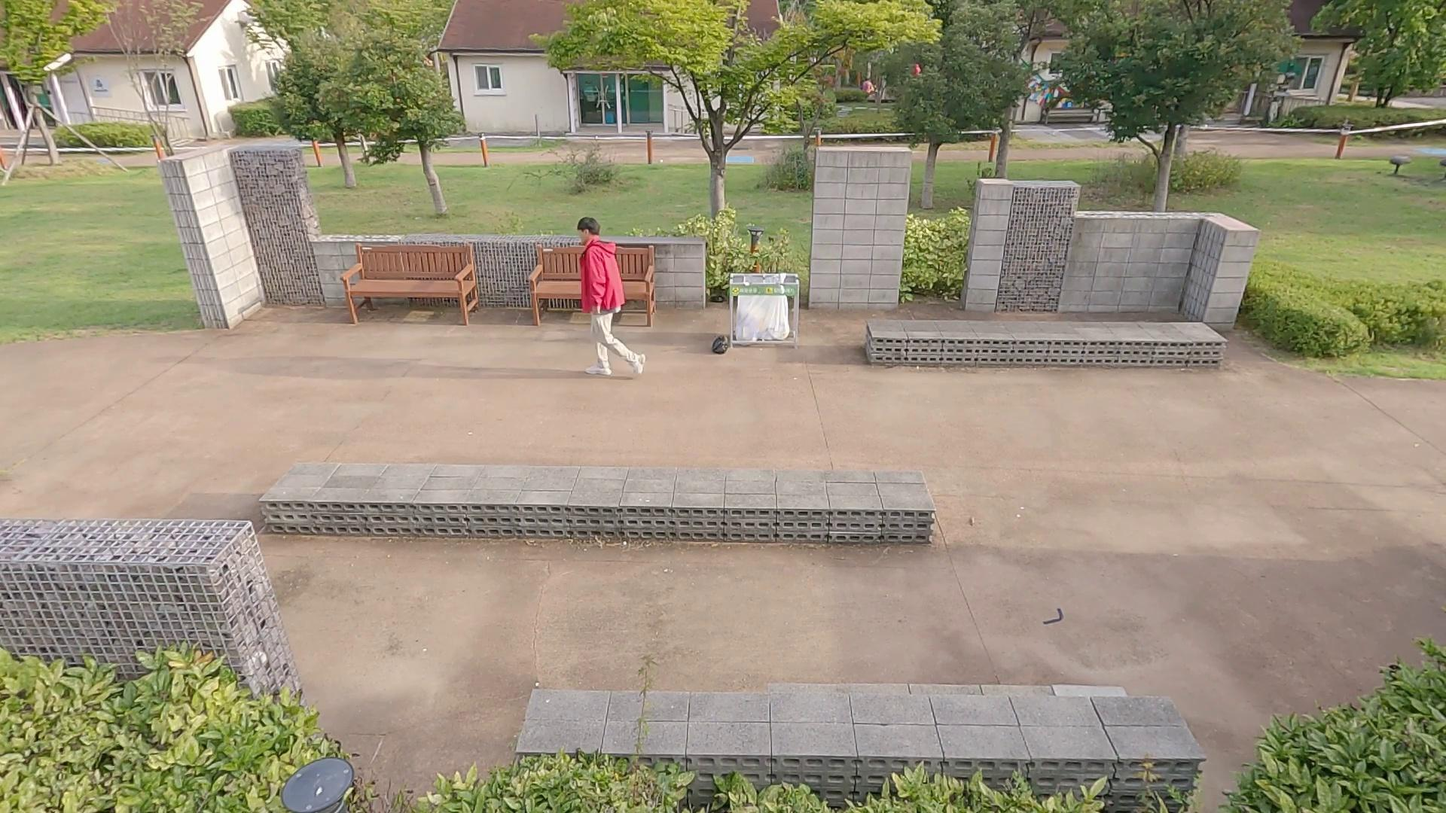person: (573, 209, 650, 383)
trash: (707, 327, 738, 361)
